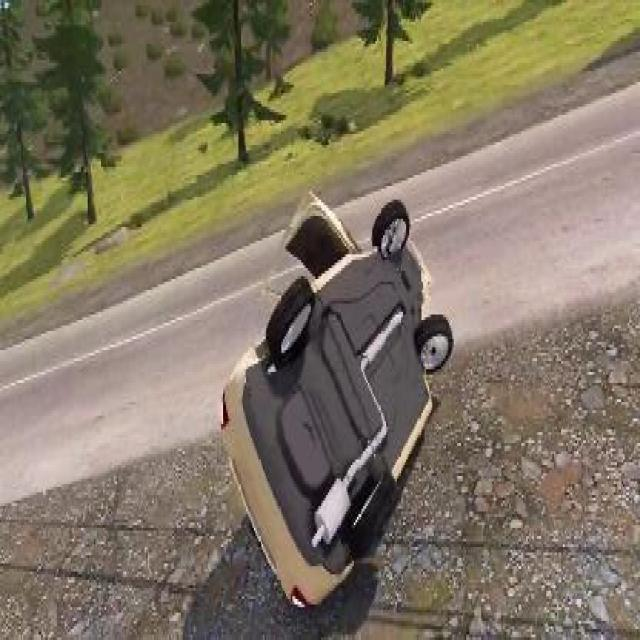accident: (223, 197, 452, 613)
